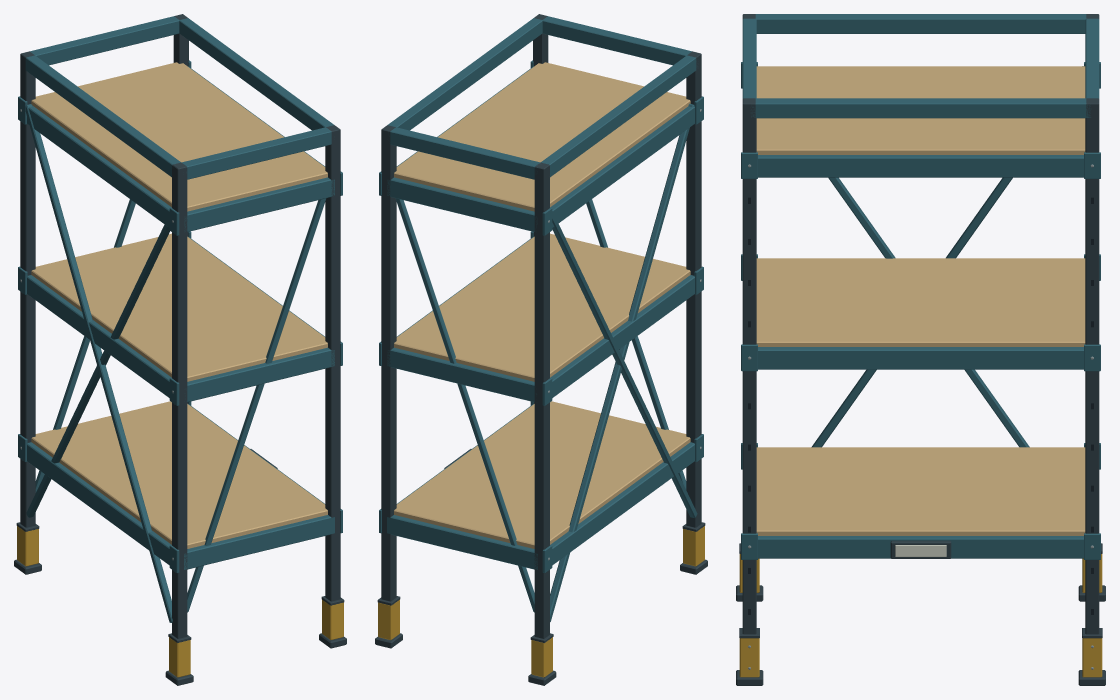
The model's file is rack-bay.glb.
3 views of the same model, side by side, from view 1: azimuth 30°, elevation 25°; view 2: azimuth 150°, elevation 25°; view 3: azimuth 270°, elevation 25° (orthographic). The views are drawn at different scales.
Visible parts, largest first — view 1: rack-bay__material_04, rack-bay__material_03, rack-bay__material_00, rack-bay__material_06; view 2: rack-bay__material_04, rack-bay__material_03, rack-bay__material_00, rack-bay__material_06; view 3: rack-bay__material_04, rack-bay__material_03, rack-bay__material_00, rack-bay__material_06, rack-bay__material_01.
Boxes of the visible parts, x1,y1,x2,y2 form: rack-bay__material_04: (31, 62, 327, 548); rack-bay__material_03: (18, 16, 342, 622); rack-bay__material_00: (14, 14, 346, 685); rack-bay__material_06: (17, 526, 343, 677); rack-bay__material_04: (394, 62, 690, 548); rack-bay__material_03: (379, 16, 703, 621); rack-bay__material_00: (375, 14, 707, 685); rack-bay__material_06: (378, 526, 704, 677); rack-bay__material_04: (756, 66, 1085, 535); rack-bay__material_03: (741, 14, 1100, 559); rack-bay__material_00: (736, 14, 1105, 685); rack-bay__material_06: (739, 554, 1102, 677); rack-bay__material_01: (895, 545, 946, 556).
Size of the model in its own units: 0.9 by 2.6 by 1.5.
